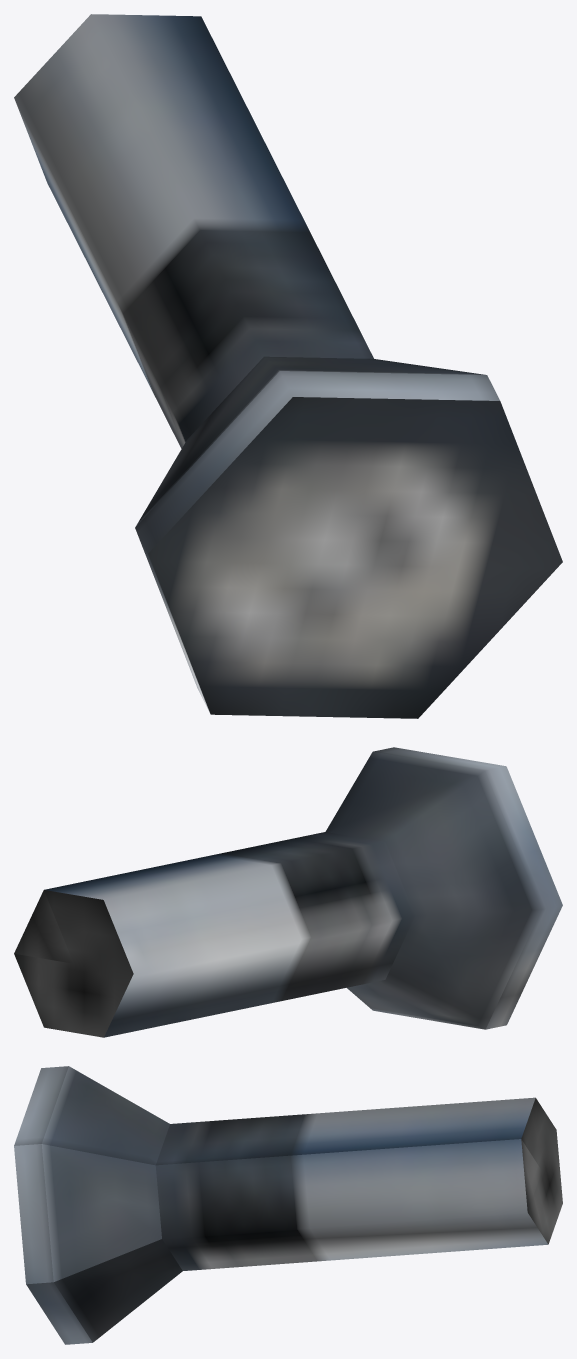
Rendered from flashlight.FBX.
The picture shows the model from 3 angles, top to bottom: view 1: azimuth 30°, elevation 25°; view 2: azimuth 150°, elevation 25°; view 3: azimuth 270°, elevation 25°; orthographic projection. The views are drawn at different scales.
Visible parts, largest first — view 1: InventoryItem_Flashlight; view 2: InventoryItem_Flashlight; view 3: InventoryItem_Flashlight.
Boxes of the visible parts, x1,y1,x2,y2 form: InventoryItem_Flashlight: (14,14,562,718); InventoryItem_Flashlight: (14,747,562,1037); InventoryItem_Flashlight: (14,1066,562,1344).
Bounding box in the file's own units: 12.67 × 11.42 × 21.69.
Materials: 1 (1 with a texture image).
